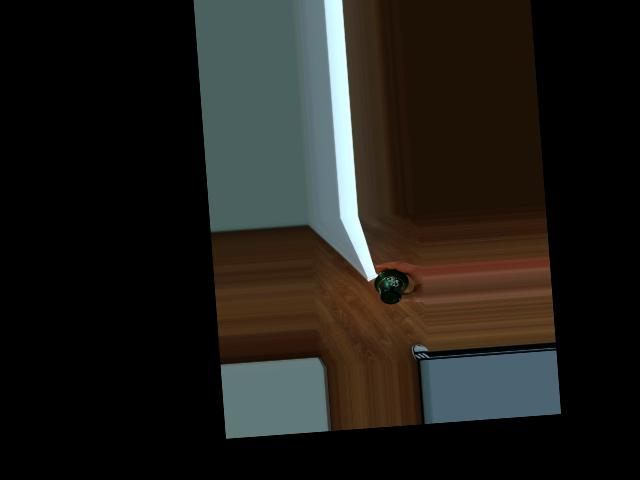beer: (373, 268, 411, 305)
